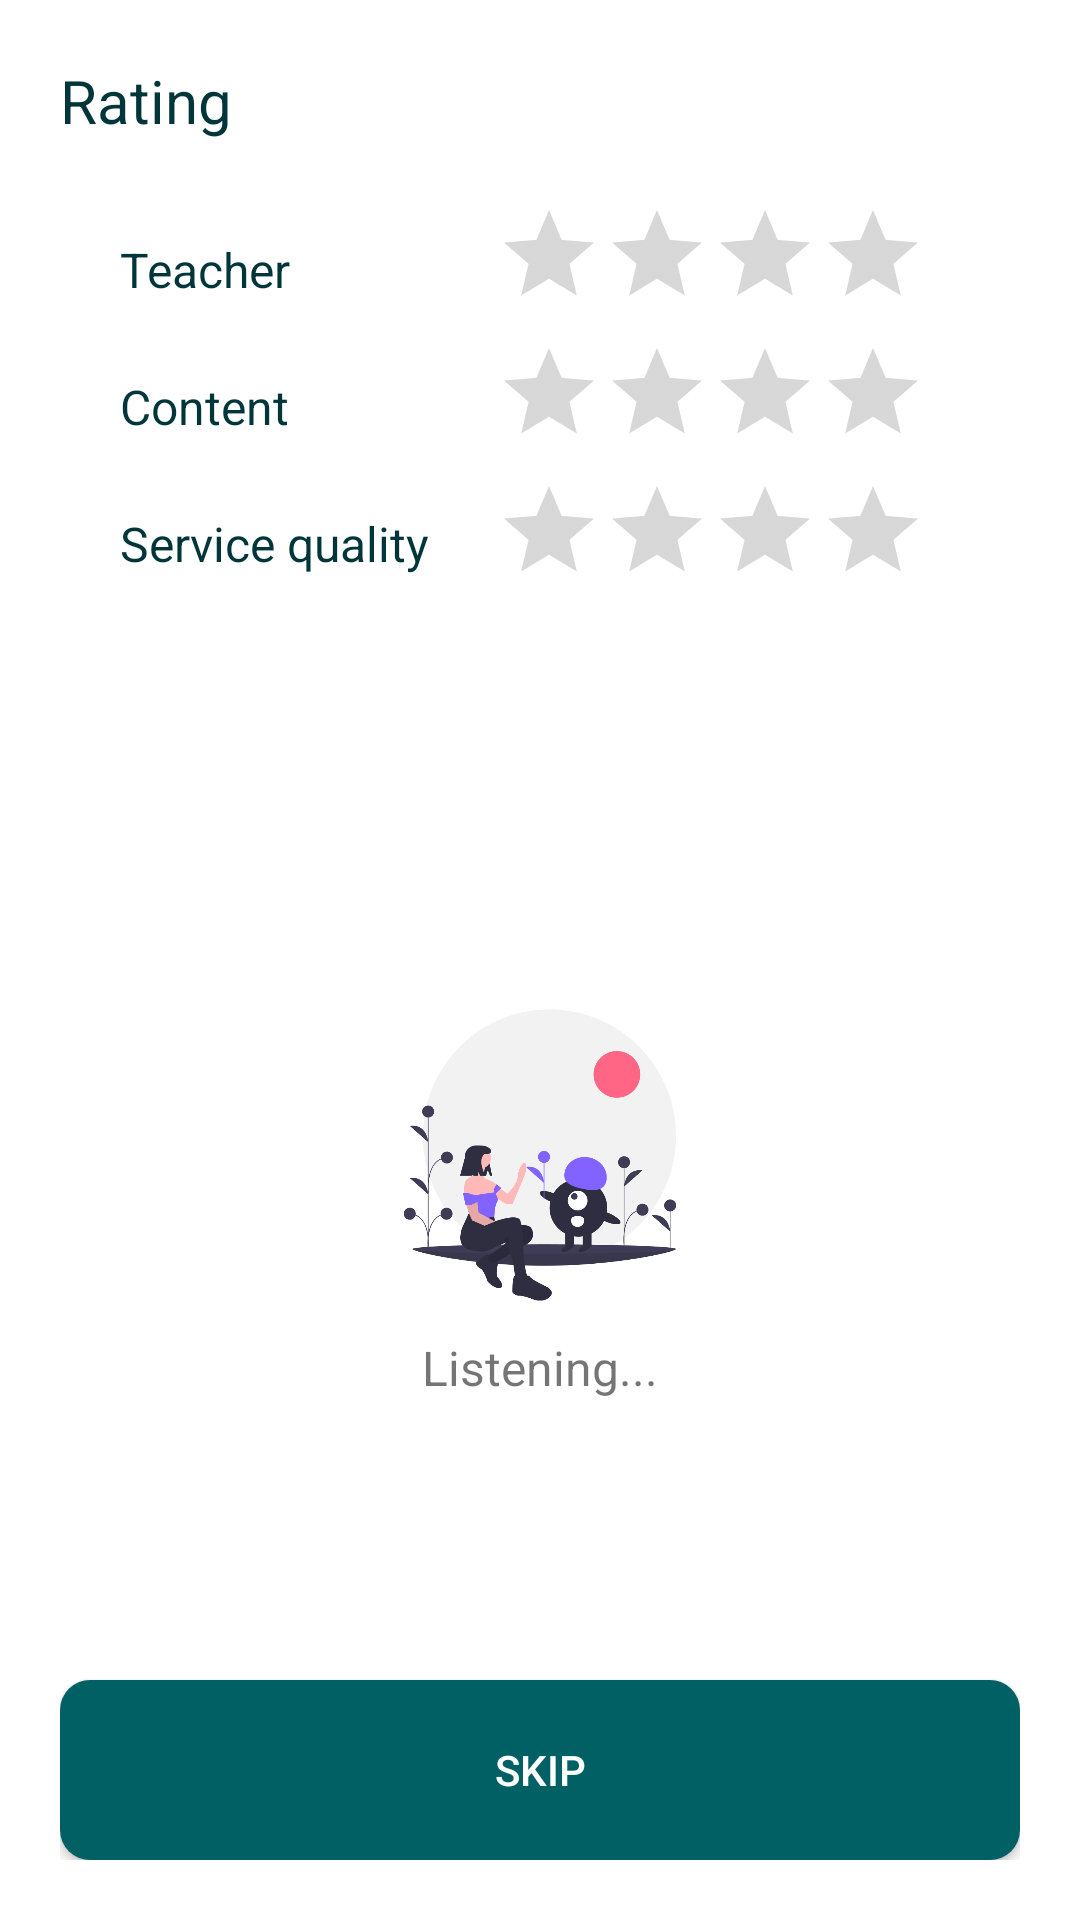

Icon click points for this 1080 × 1920 phone screenshot, format point (x, y):
visual aid: point (540, 1176)
